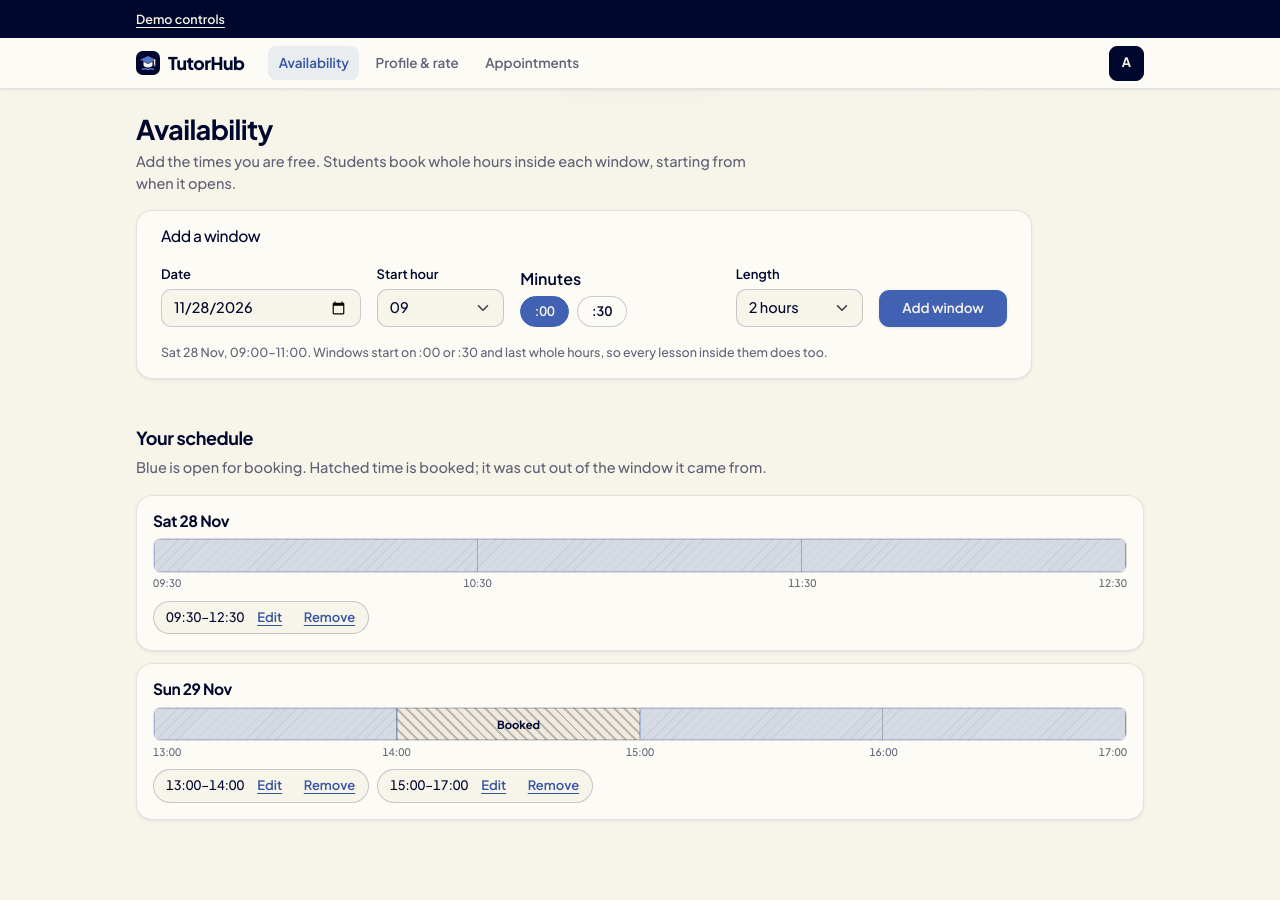
Test case: tutor availability removal confirmation › removes the window once confirmed
This screenshot has width=1280, height=900.
Click the button "Remove " in the row of "09:30–12:30". click: click(330, 617)
box: [295,603,364,631]
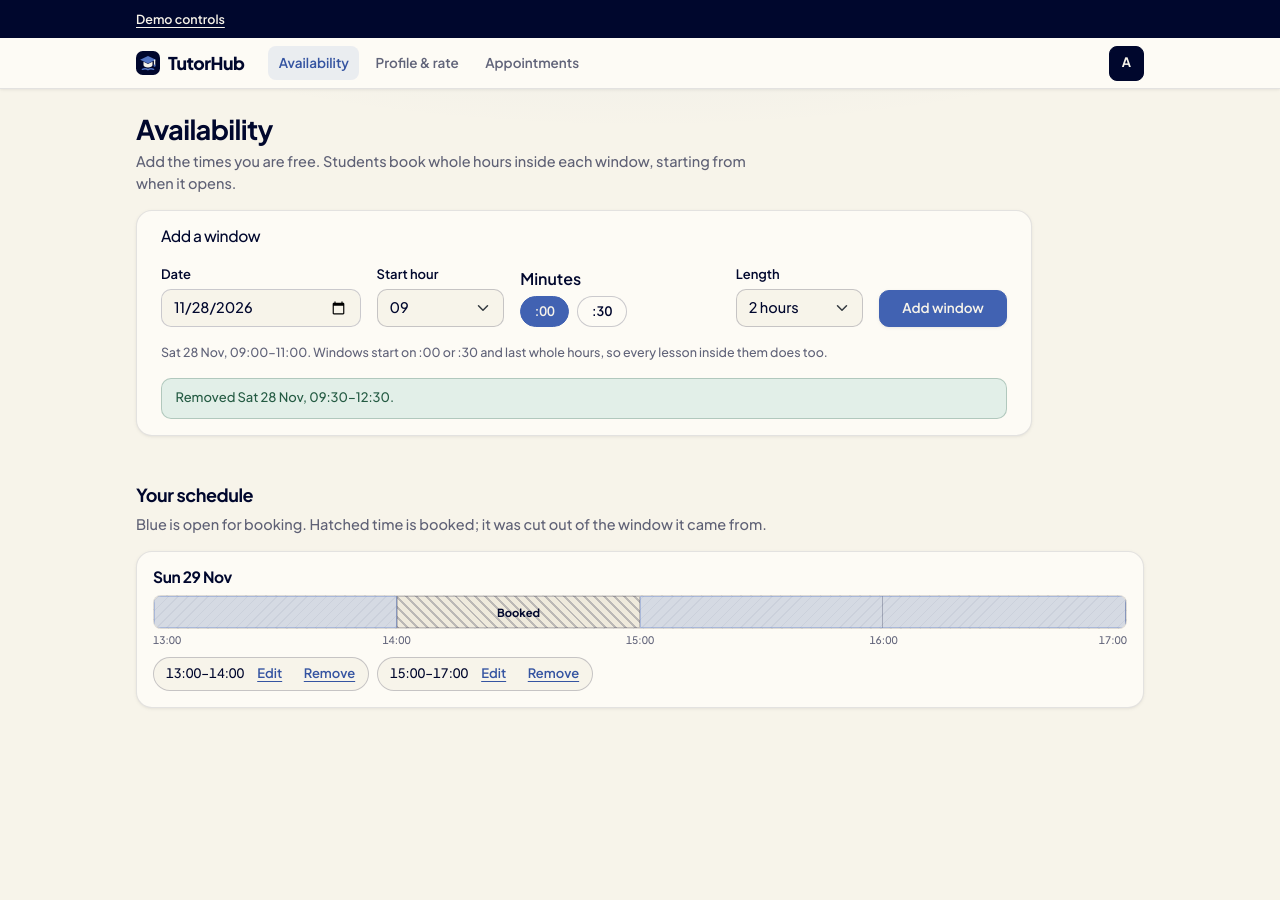
Now the number of buttons "Remove " is 2, box [295,660,364,688]; [519,660,588,688]
